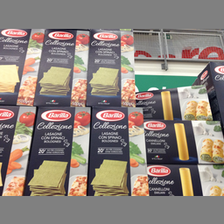pasta: (23, 106, 91, 197), (86, 106, 149, 196), (35, 30, 90, 106), (88, 29, 136, 106), (143, 120, 223, 165), (1, 29, 45, 106), (138, 85, 213, 120)
